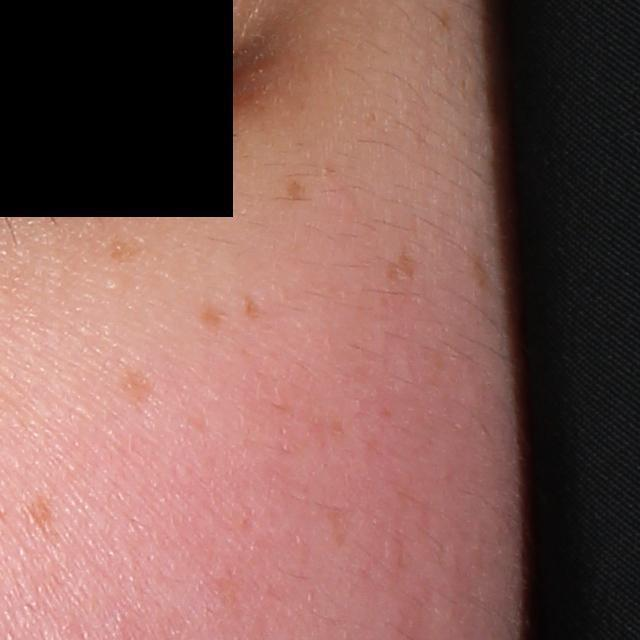melasma: (293, 411, 347, 457), (111, 368, 158, 414), (103, 236, 152, 267), (29, 503, 59, 533), (384, 258, 420, 279), (237, 295, 258, 324), (284, 178, 304, 203)
